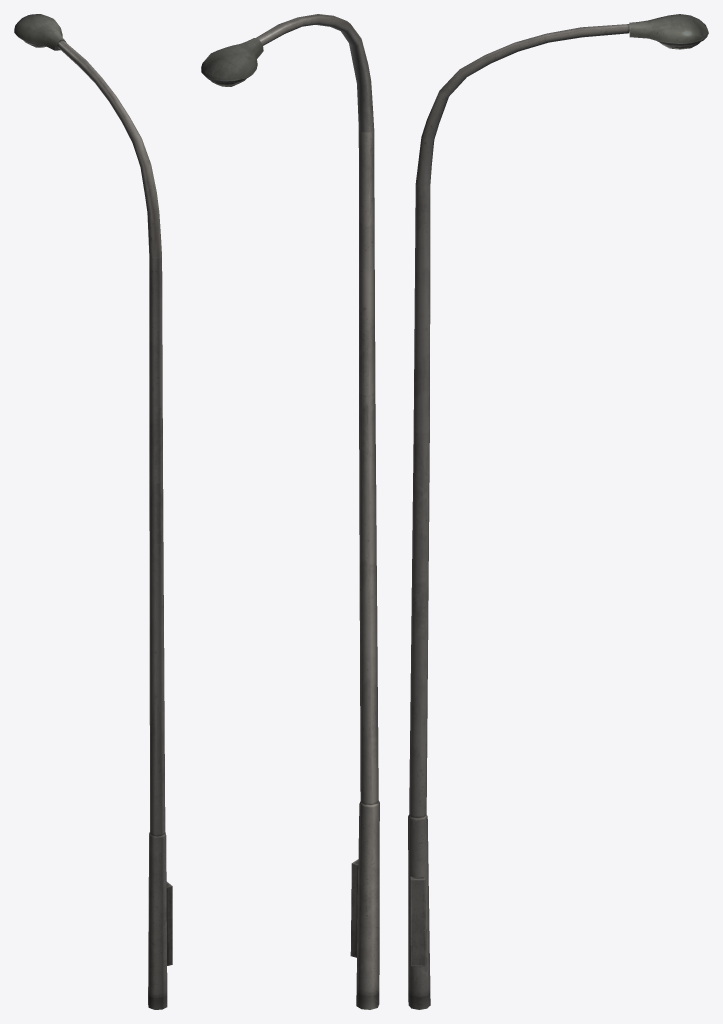
File: Preset_StreetLightA.fbx
The picture shows the model from 3 angles, left to right: view 1: azimuth 30°, elevation 25°; view 2: azimuth 150°, elevation 25°; view 3: azimuth 270°, elevation 25°; orthographic projection. The views are drawn at different scales.
Visible parts, largest first — view 1: BodyVD, BodyBtm, BodyHD, BodyEmit; view 2: BodyVD, BodyBtm, BodyHD, BodyEmit; view 3: BodyVD, BodyBtm, BodyHD, BodyEmit.
Part boxes in pixels (<box>): BodyVD: <box>149,256,165,835</box>; BodyBtm: <box>148,832,172,1009</box>; BodyHD: <box>55,39,161,257</box>; BodyEmit: <box>14,14,64,50</box>; BodyVD: <box>358,129,378,804</box>; BodyBtm: <box>350,801,379,1009</box>; BodyHD: <box>256,14,373,132</box>; BodyEmit: <box>201,38,263,83</box>; BodyVD: <box>409,184,430,818</box>; BodyBtm: <box>408,814,430,1009</box>; BodyHD: <box>415,24,629,186</box>; BodyEmit: <box>629,14,708,45</box>.
Size of the model in its own units: 56.07 by 331 by 1200.
3 materials, 3 textured.
